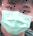with_mask: (1, 1, 33, 36)
